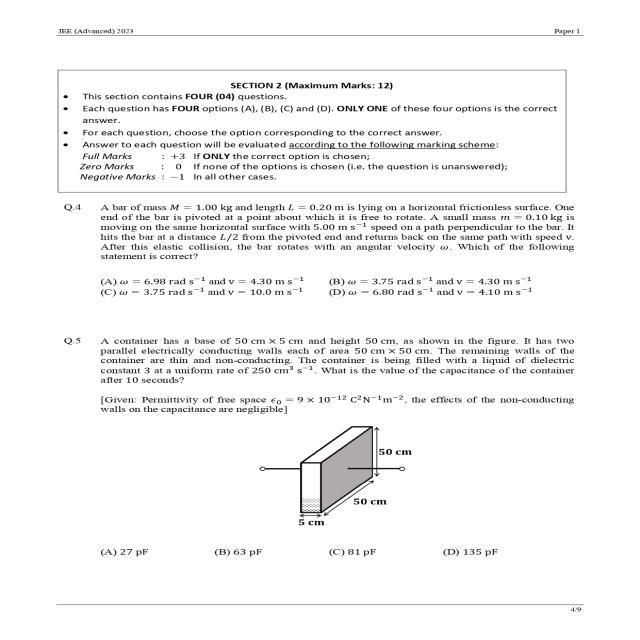Answer_Block: (53, 254, 612, 304), (49, 530, 608, 559)
Instruction: (47, 70, 610, 192)
Question_Answer_Block: (47, 332, 610, 559), (47, 198, 610, 304)
Question_Block: (45, 334, 608, 530), (47, 196, 608, 258)
Question_Paper_Area: (47, 53, 612, 571)
